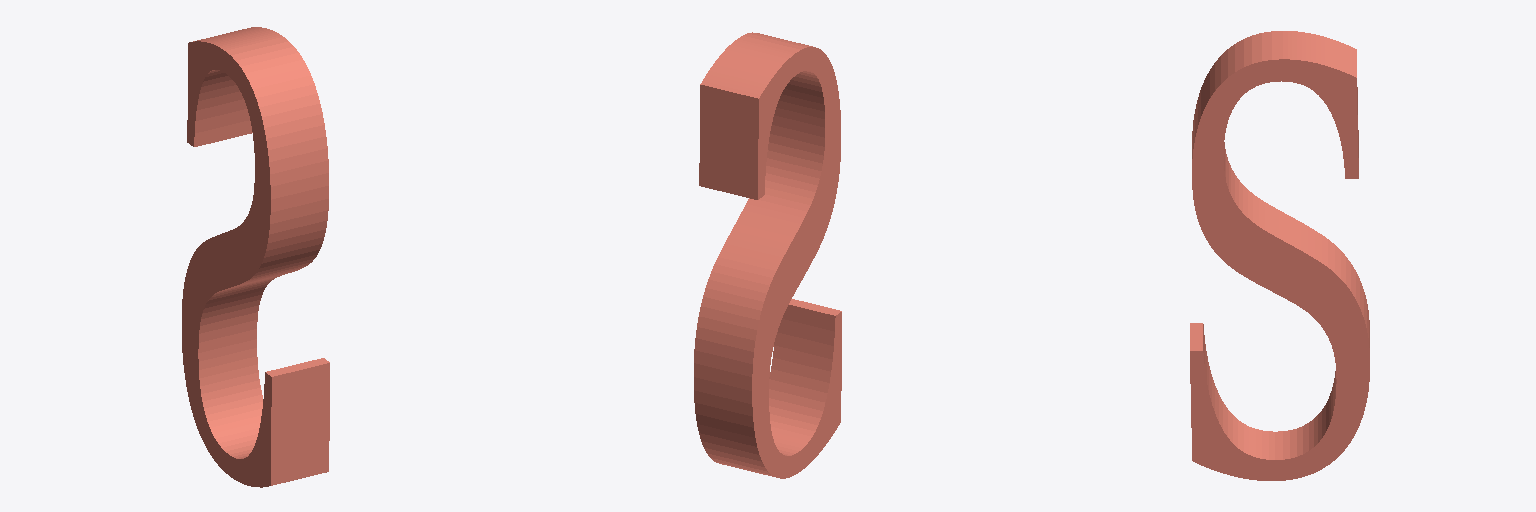
The picture shows the model from 3 angles: view 1: azimuth 30°, elevation 25°; view 2: azimuth 150°, elevation 25°; view 3: azimuth 270°, elevation 25°; orthographic projection.
Parts seen in each view (by area): view 1: letraS:polySurface7typeMesh1; view 2: letraS:polySurface7typeMesh1; view 3: letraS:polySurface7typeMesh1.
Part boxes in pixels (left/top/right/bottom): letraS:polySurface7typeMesh1: left=182, top=27, right=329, bottom=487; letraS:polySurface7typeMesh1: left=694, top=32, right=841, bottom=478; letraS:polySurface7typeMesh1: left=1190, top=31, right=1369, bottom=480.
Bounding box in the file's own units: 0.056 × 0.3856 × 0.1495.
Materials: 1 (1 with a texture image).